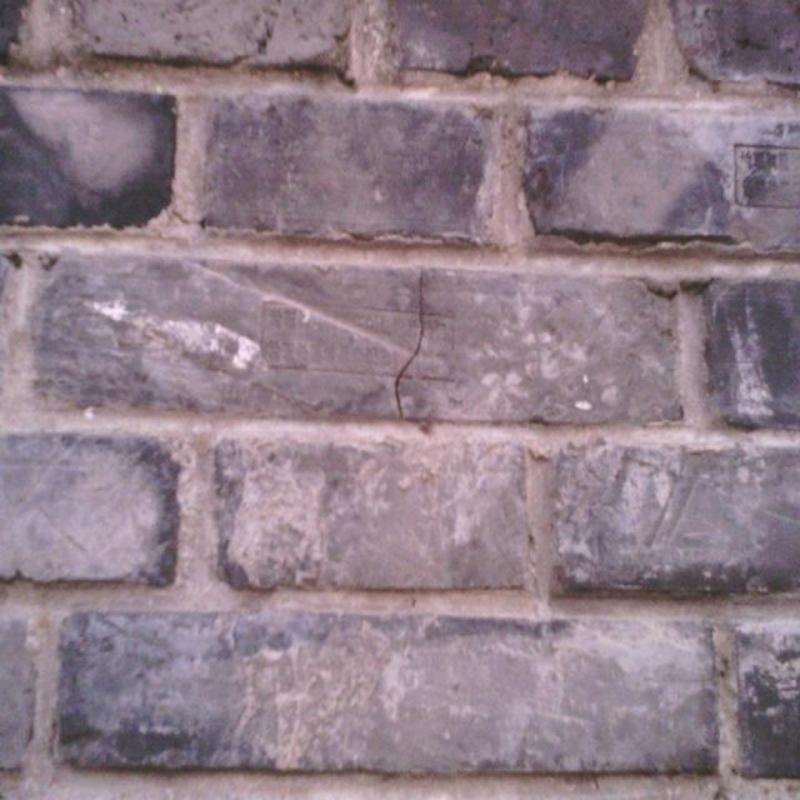pothole: (395, 275, 425, 419), (169, 209, 205, 226)
